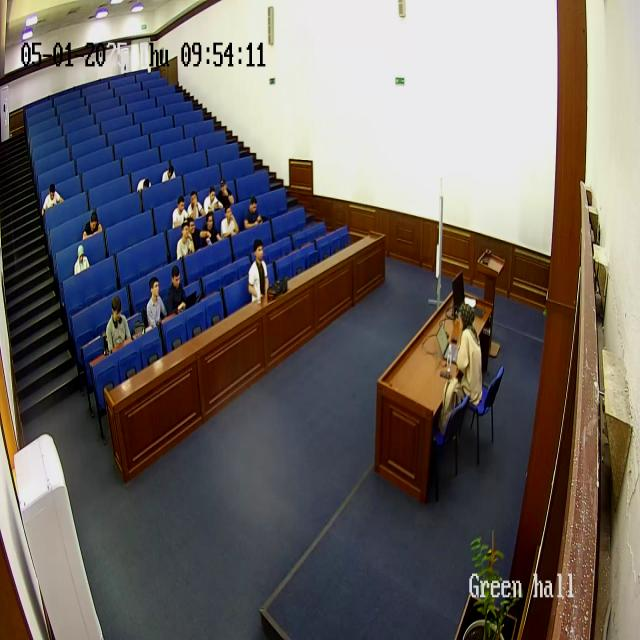person: (435, 303, 483, 436), (105, 295, 133, 353), (248, 240, 270, 305), (144, 276, 167, 331), (166, 267, 190, 318), (176, 221, 195, 267), (201, 212, 221, 248), (82, 209, 103, 240), (43, 183, 64, 214), (220, 204, 238, 240), (217, 178, 236, 210), (172, 198, 190, 230), (244, 198, 262, 230), (73, 243, 89, 276), (187, 191, 204, 222), (203, 184, 219, 213), (162, 164, 176, 184), (137, 177, 151, 195)
